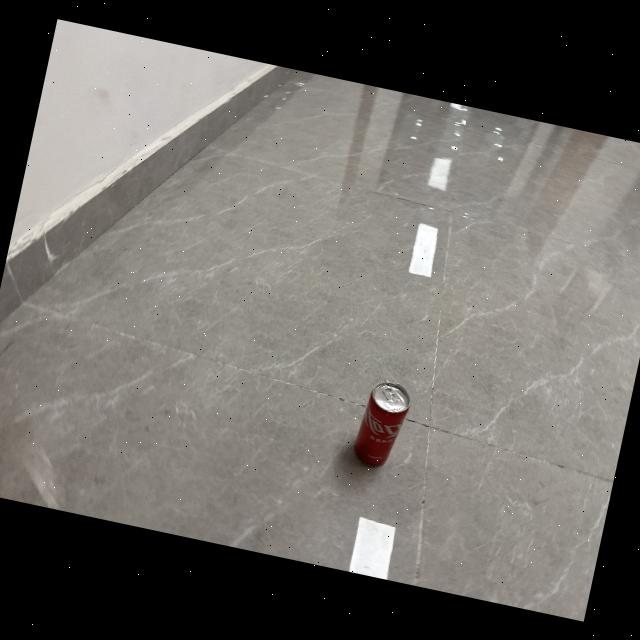Cola: (342, 374, 416, 482)
